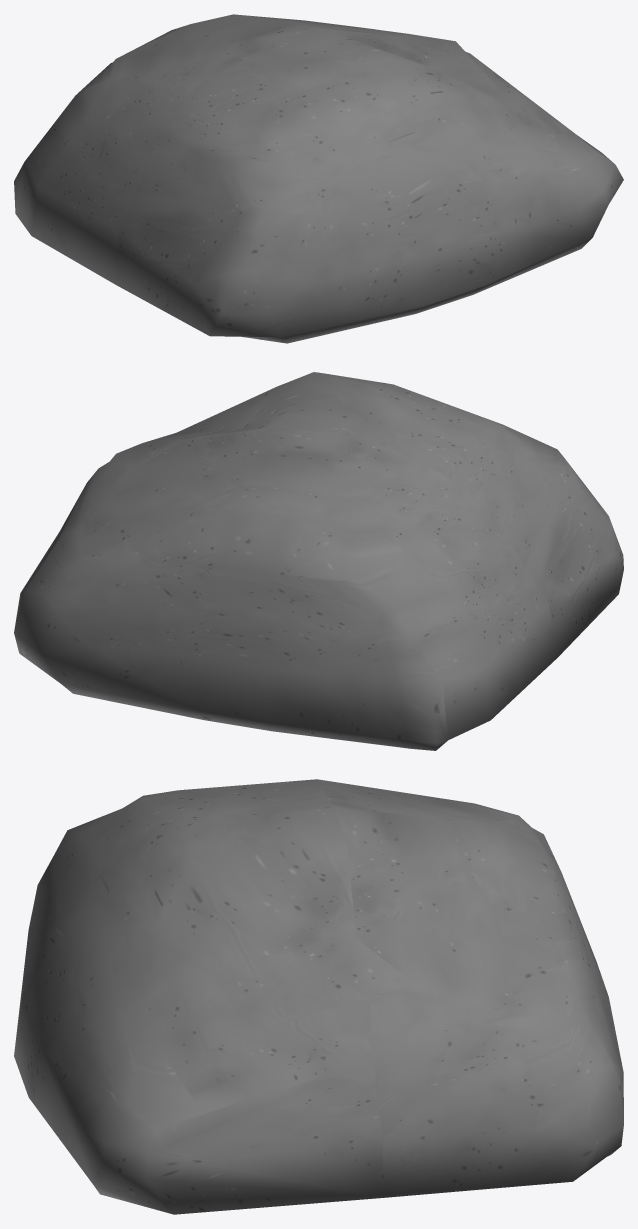
Rendered from Gray_Rock_07.fbx.
3 views of the same model, one above another, from view 1: azimuth 30°, elevation 25°; view 2: azimuth 150°, elevation 25°; view 3: azimuth 270°, elevation 25° (orthographic). The views are drawn at different scales.
Visible parts, largest first — view 1: Gray_Rock_01; view 2: Gray_Rock_01; view 3: Gray_Rock_01.
Boxes of the visible parts, x1,y1,x2,y2 form: Gray_Rock_01: (14,14,623,343); Gray_Rock_01: (14,372,623,750); Gray_Rock_01: (14,779,623,1214).
Bounding box in the file's own units: 2.35 × 2.05 × 0.9569.
